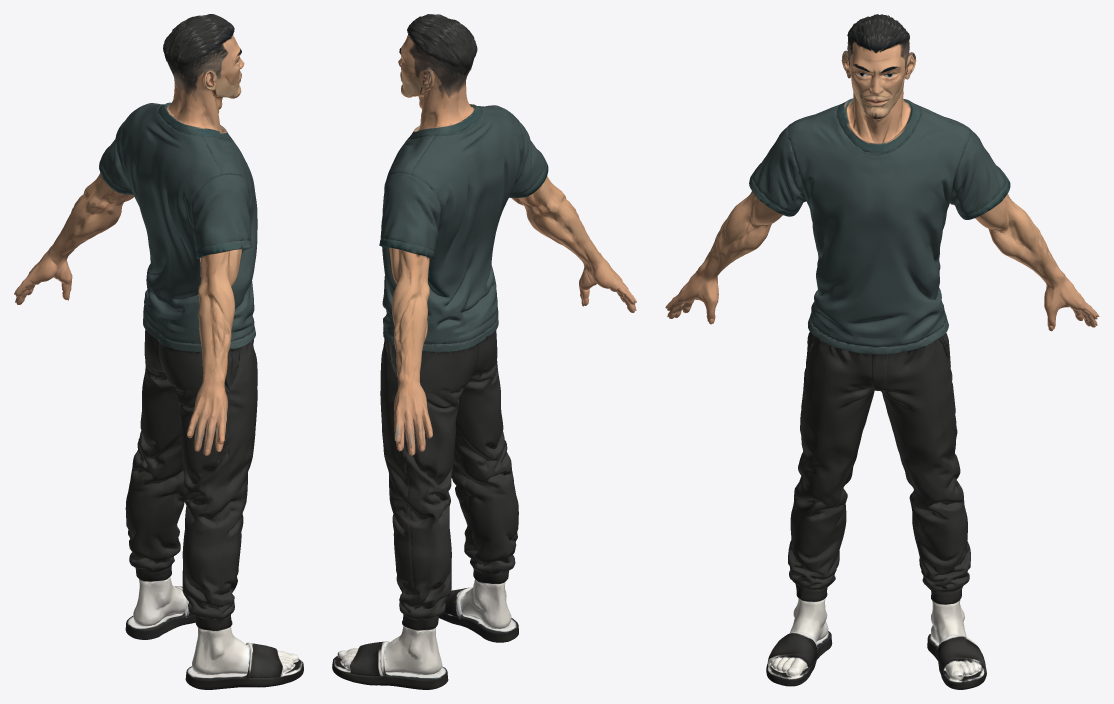
Rendered from seungmin_tripo.glb.
3 renders of one model, left to right at view 1: azimuth 30°, elevation 25°; view 2: azimuth 150°, elevation 25°; view 3: azimuth 270°, elevation 25°, orthographic.
Parts seen in each view (by area): view 1: tripo_node_b06381f7-e659-4524-b37d-c3973e2588e5; view 2: tripo_node_b06381f7-e659-4524-b37d-c3973e2588e5; view 3: tripo_node_b06381f7-e659-4524-b37d-c3973e2588e5.
Part boxes in pixels (box(x1,y1,x2,y2)): tripo_node_b06381f7-e659-4524-b37d-c3973e2588e5: box(14, 14, 303, 689); tripo_node_b06381f7-e659-4524-b37d-c3973e2588e5: box(332, 14, 636, 689); tripo_node_b06381f7-e659-4524-b37d-c3973e2588e5: box(665, 14, 1099, 689).
Size of the model in its own units: 0.2754 by 0.9785 by 0.5995.
Materials: 1 (1 with a texture image).
